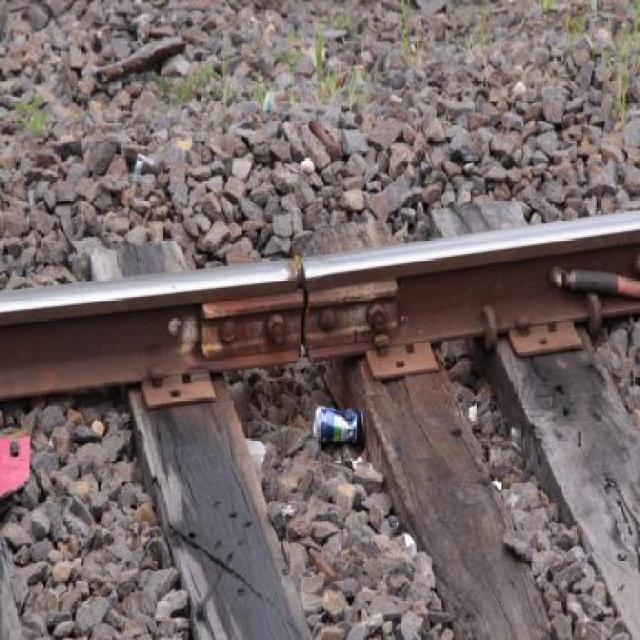defective: (122, 176, 536, 466)
